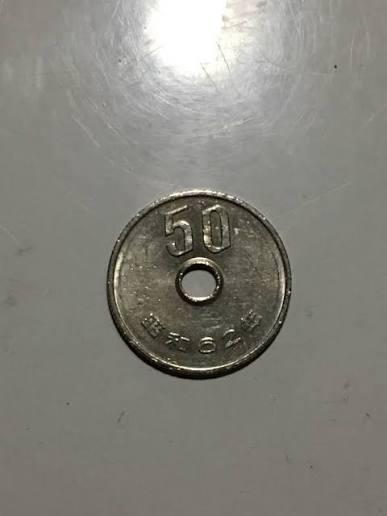year: (140, 307, 262, 375)
